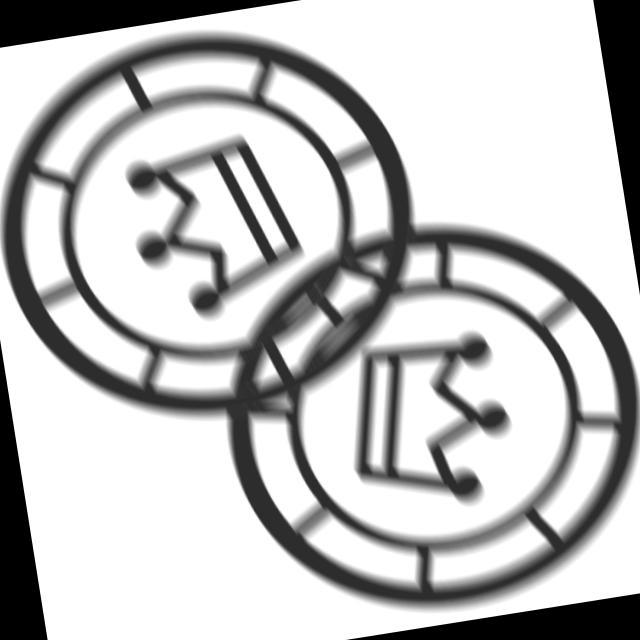coin: (186, 186, 640, 640), (1, 1, 452, 456)
